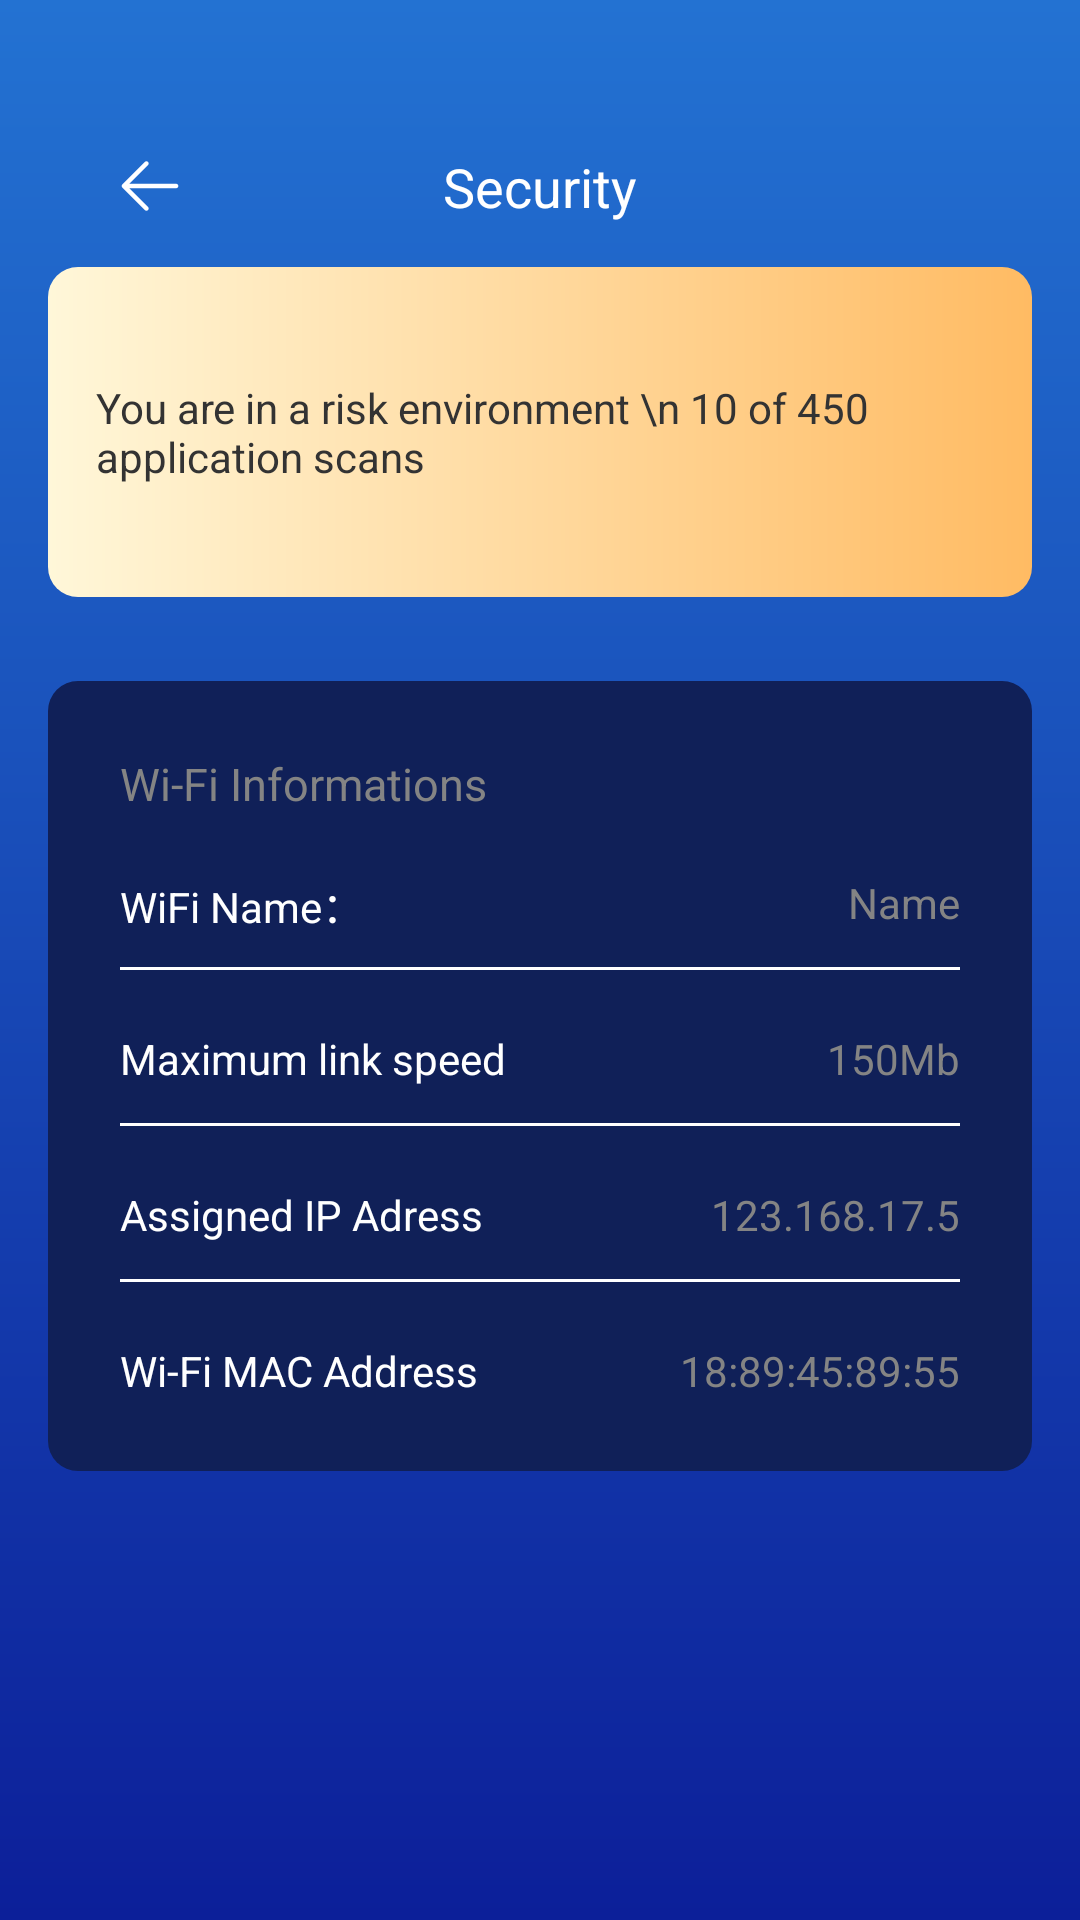

Named icons in this screenshot (1080*1920) and their bounding boxes, [x1, y1, x2, y2]:
back: [121, 161, 179, 211]
